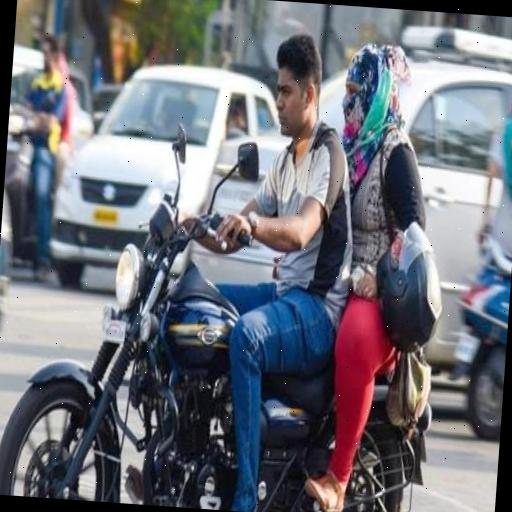no helmet: (67, 17, 346, 512)
